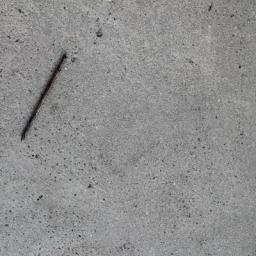FOD: (21, 53, 78, 144)
